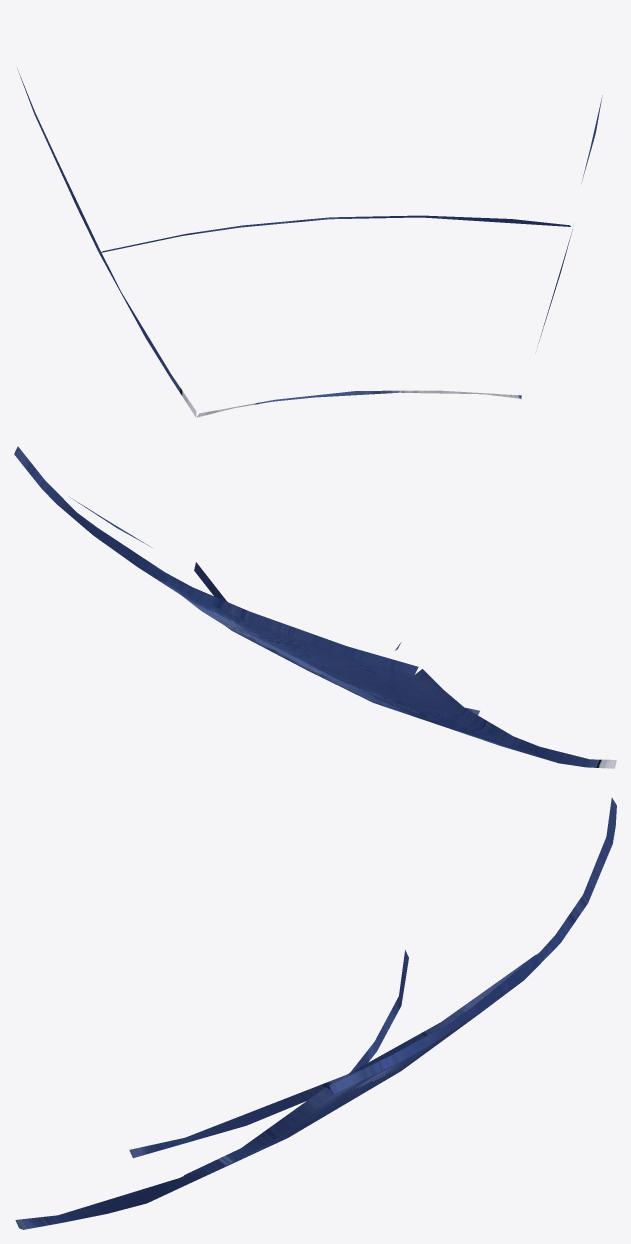
3 renders of one model, top to bottom at view 1: azimuth 30°, elevation 25°; view 2: azimuth 150°, elevation 25°; view 3: azimuth 270°, elevation 25°, orthographic. The views are drawn at different scales.
Bounding box in the file's own units: 3231529 × 1436853 × 2826883.
Materials: 1 (1 with a texture image).
